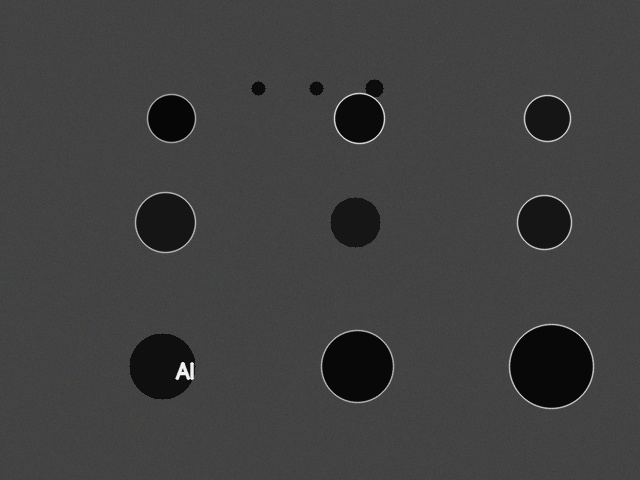hole: (509, 324, 593, 408), (321, 330, 393, 402), (129, 333, 195, 399), (135, 192, 195, 252), (517, 195, 571, 249), (334, 93, 384, 143), (330, 197, 380, 247), (147, 94, 195, 142), (524, 95, 570, 141), (365, 79, 383, 97), (251, 81, 265, 95), (309, 81, 323, 95)
